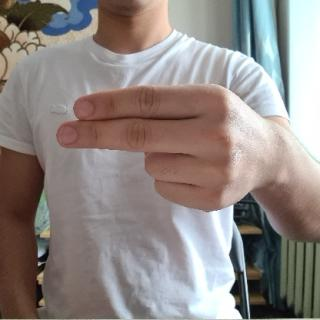AYN: (54, 78, 280, 219)
